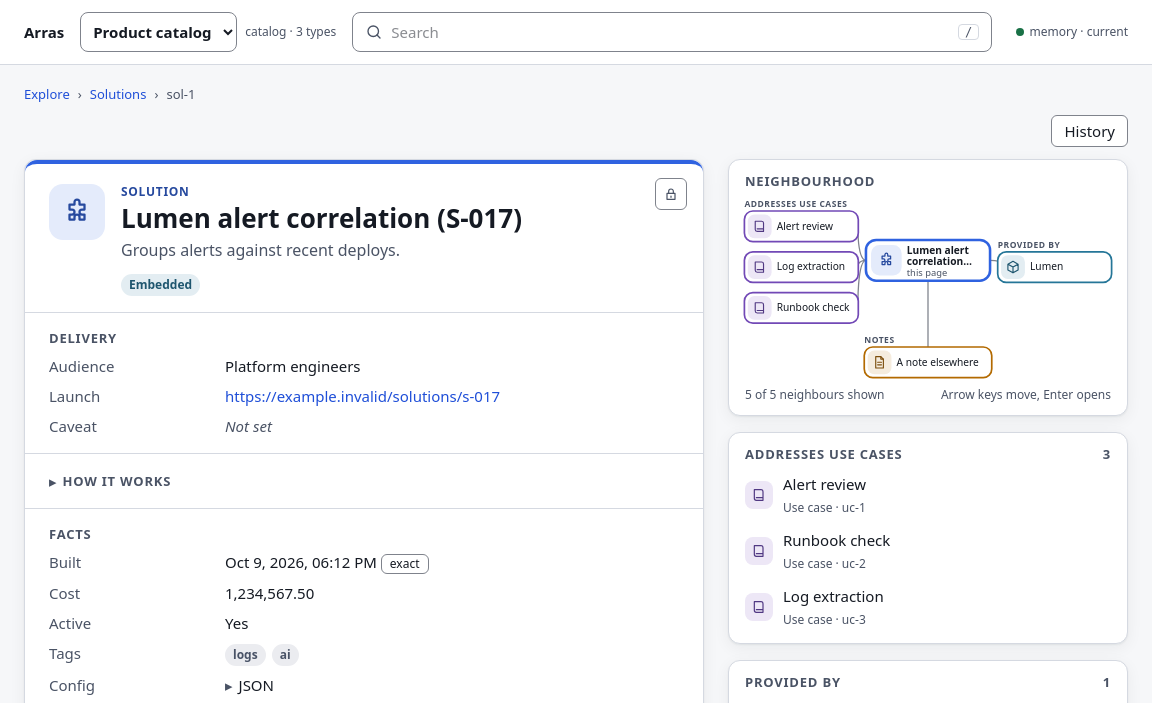
editing a property in place › will not send a form with a required field empty, and cancels with Escape
Click the button named "Edit mode" at {"x": 671, "y": 194}, box [655,178,687,210]
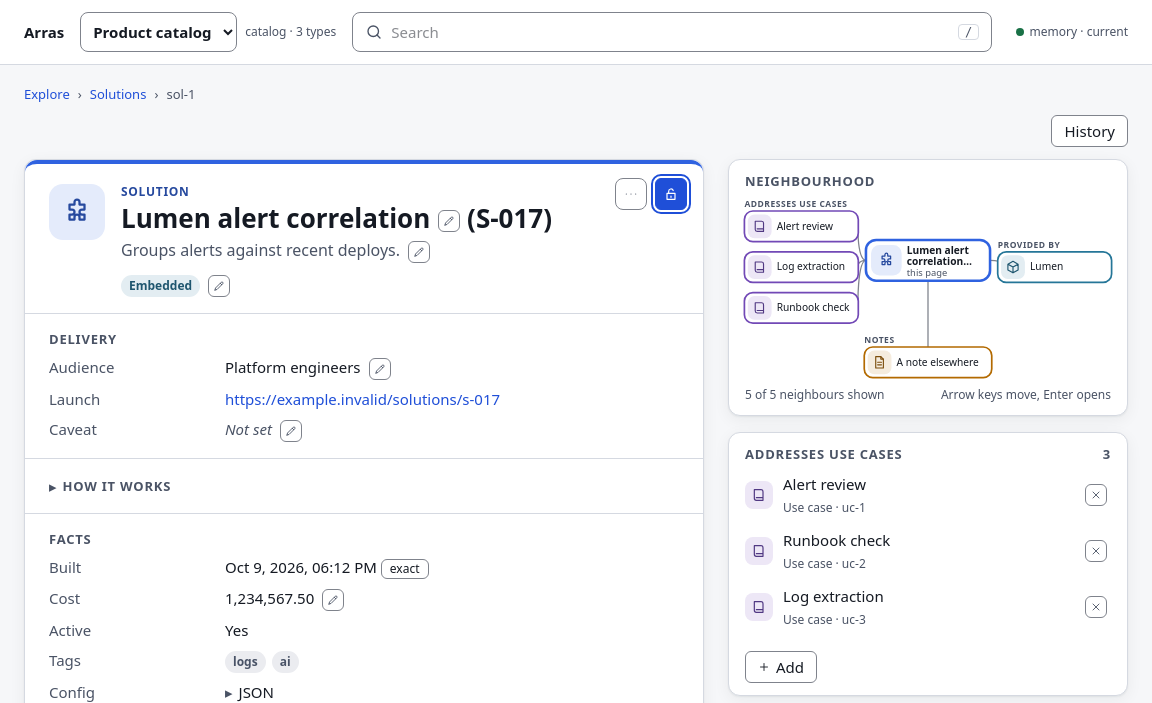
Click the button named "Edit Caveat" at {"x": 291, "y": 431}, box [280,420,302,442]
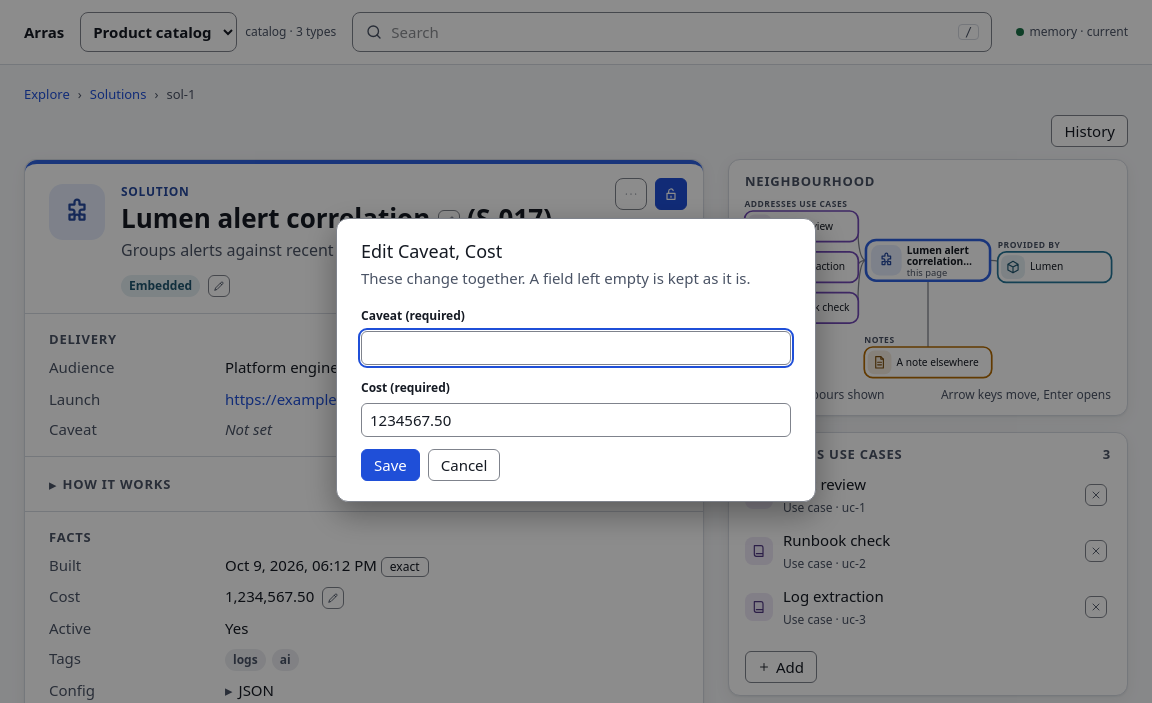
Click the button "Save" at {"x": 390, "y": 465}, box [361,449,420,481]
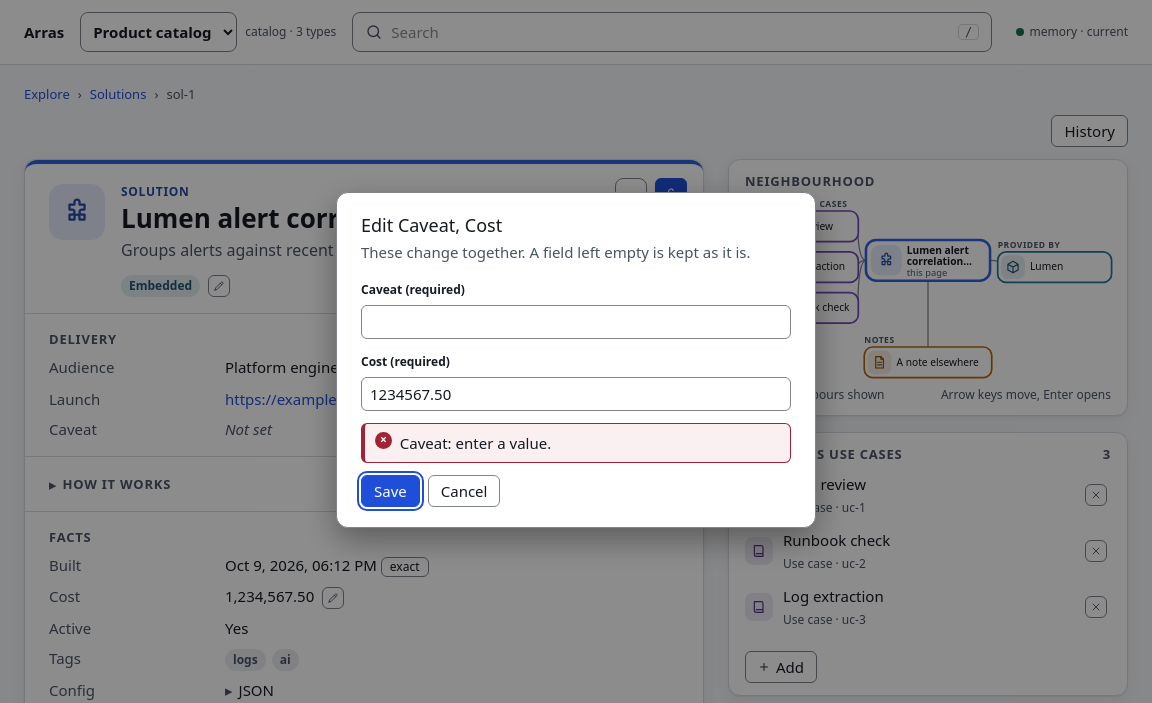
Now the message shows "Caveat: enter a value.", box [400,433,551,453]
Press Escape
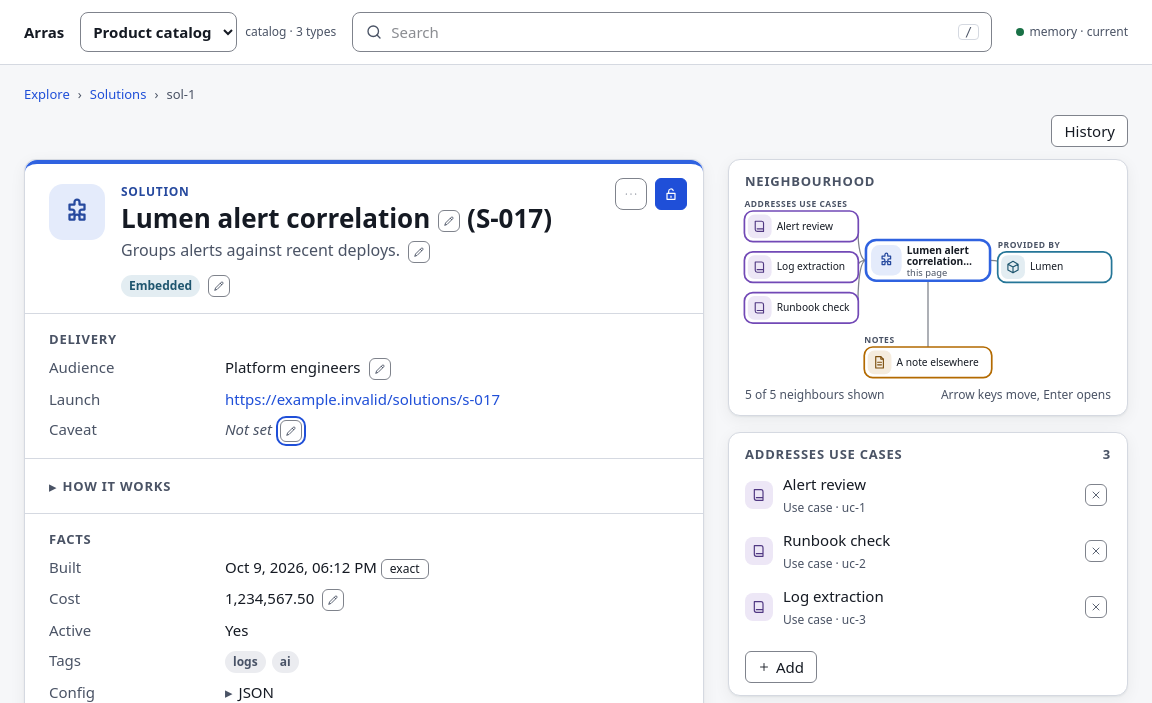
Now the dialog is gone
